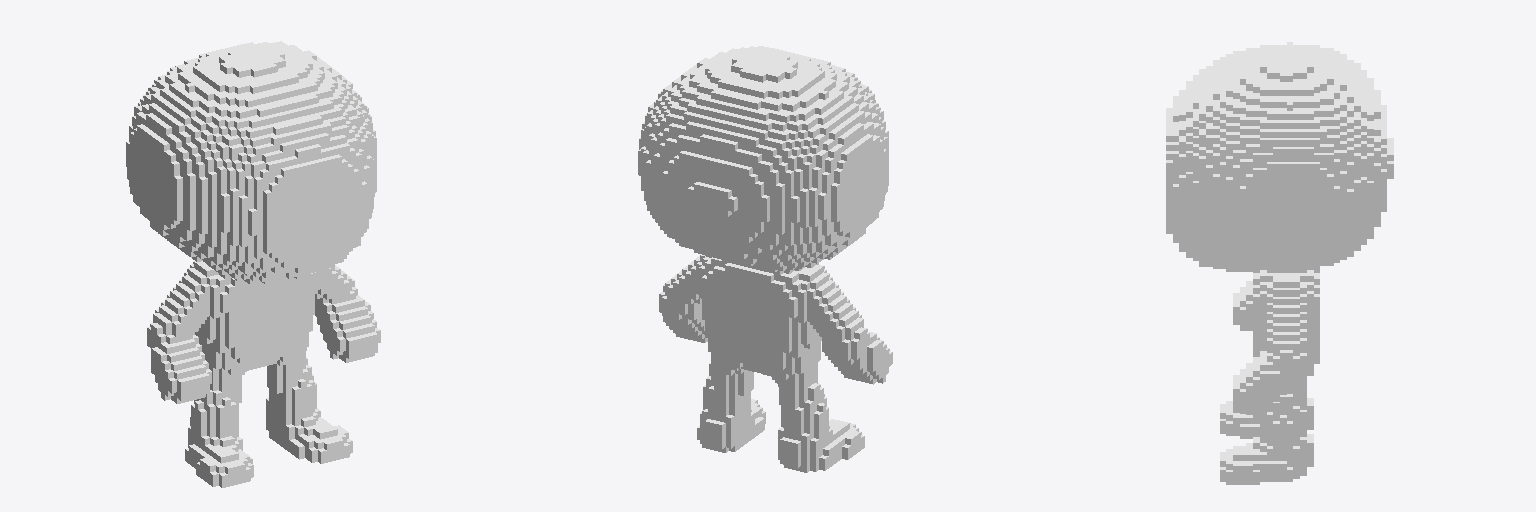
Rendered from racer-1.obj.
3 renders of one model, left to right at view 1: azimuth 30°, elevation 25°; view 2: azimuth 150°, elevation 25°; view 3: azimuth 270°, elevation 25°, orthographic.
Parts seen in each view (by area): view 1: object 1; view 2: object 1; view 3: object 1.
Part boxes in pixels (x1,y1,x2,y2): object 1: (126,41,380,487); object 1: (638,46,892,472); object 1: (1166,42,1393,484).
Bounding box in the file's own units: 3.6 × 6.4 × 3.4.